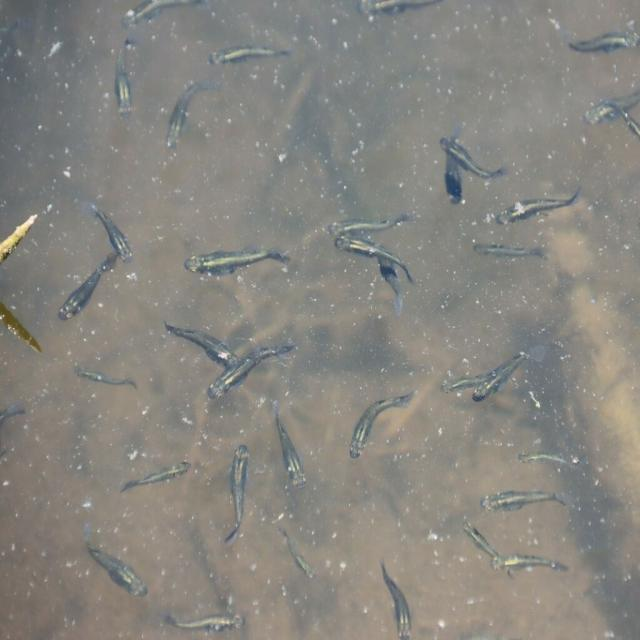Sivrisinek Baligi: (332, 234, 404, 314), (208, 335, 296, 400), (85, 526, 152, 604), (343, 389, 413, 460), (185, 234, 290, 279), (162, 76, 215, 151), (492, 181, 580, 226), (269, 404, 313, 493), (52, 265, 112, 328), (376, 559, 420, 639), (216, 445, 248, 548), (160, 598, 248, 635), (89, 198, 140, 261), (442, 135, 509, 182), (470, 232, 551, 268), (206, 30, 291, 64), (476, 484, 564, 514), (278, 523, 323, 581), (120, 459, 192, 495), (73, 356, 141, 394), (107, 38, 137, 122), (494, 550, 568, 580), (330, 206, 412, 233), (513, 443, 581, 473)
